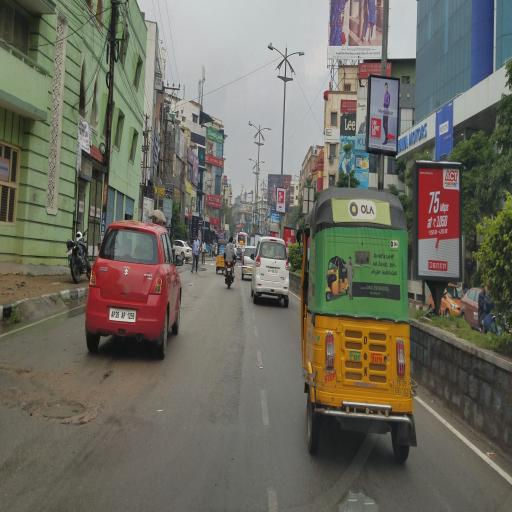street_light_0: (284, 34, 307, 68), (262, 34, 283, 70), (258, 119, 276, 143), (242, 116, 260, 140), (256, 155, 270, 168), (243, 155, 256, 168)
